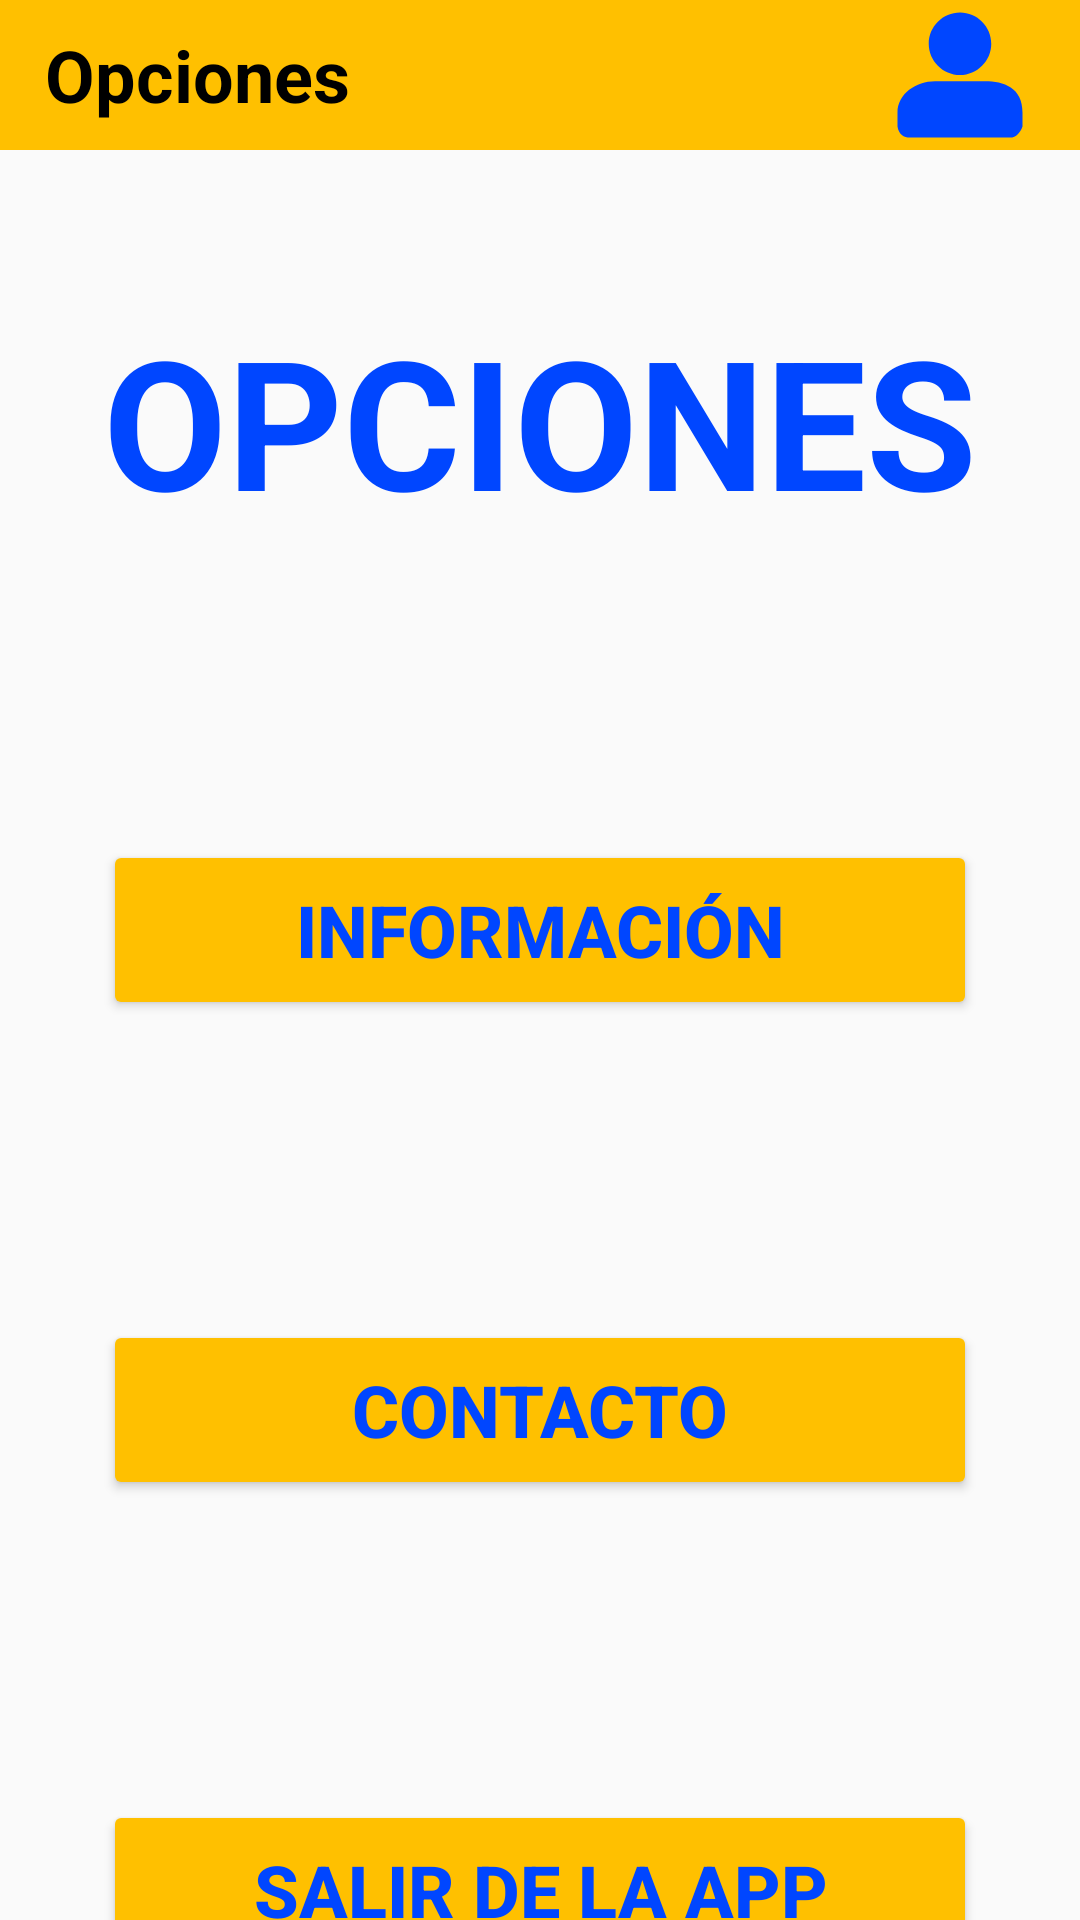

Locate icon controls on the screen. Image size 1080px×1920px, boxes as (x1, y1, x2, y2).
perfil: (897, 12, 1023, 138)
